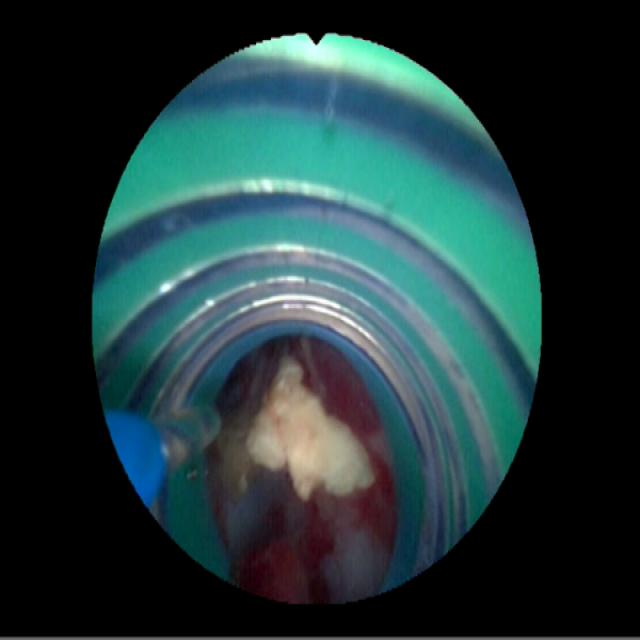fiber: (109, 412, 164, 499)
stone: (221, 364, 371, 495)
